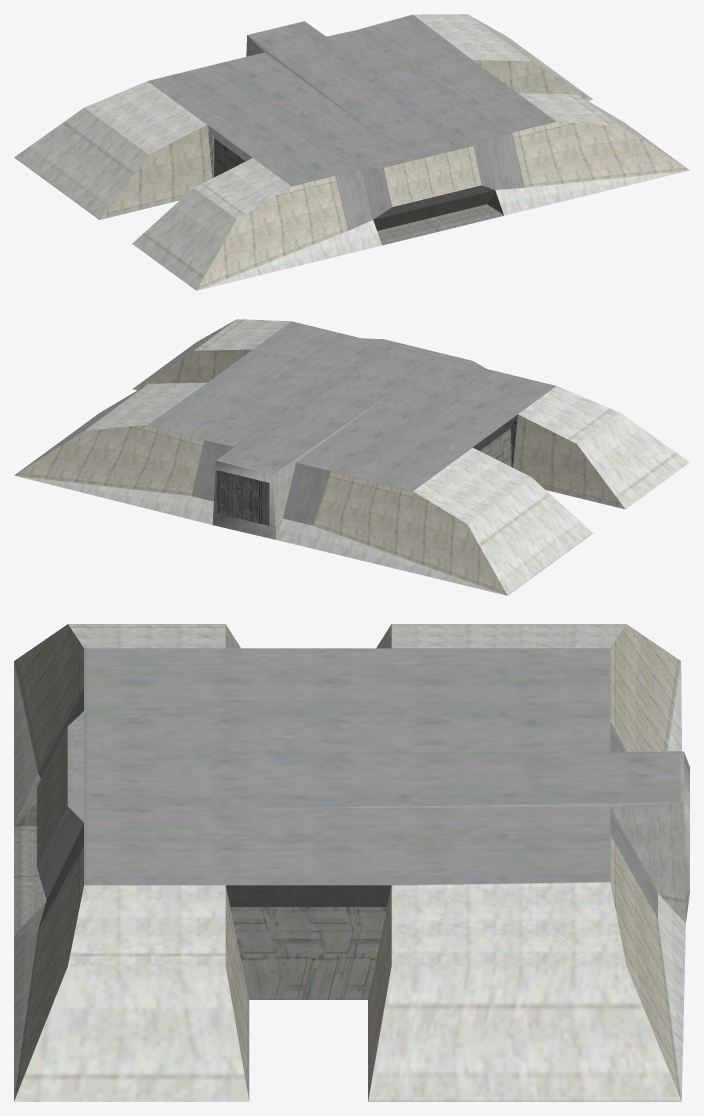
The model's file is mun_corl_cloning_s01_r0_mesh_l3.fbx.
3 renders of one model, top to bottom at view 1: azimuth 30°, elevation 25°; view 2: azimuth 150°, elevation 25°; view 3: azimuth 270°, elevation 25°, orthographic. The views are drawn at different scales.
Visible parts, largest first — view 1: mesh_node; view 2: mesh_node; view 3: mesh_node.
Boxes of the visible parts, box(x1,y1,x2,y2) form: mesh_node: box(14, 14, 689, 290); mesh_node: box(14, 319, 689, 595); mesh_node: box(14, 624, 689, 1101).
Bounding box in the file's own units: 62.92 × 7.89 × 40.77.
Materials: 1 (1 with a texture image).
